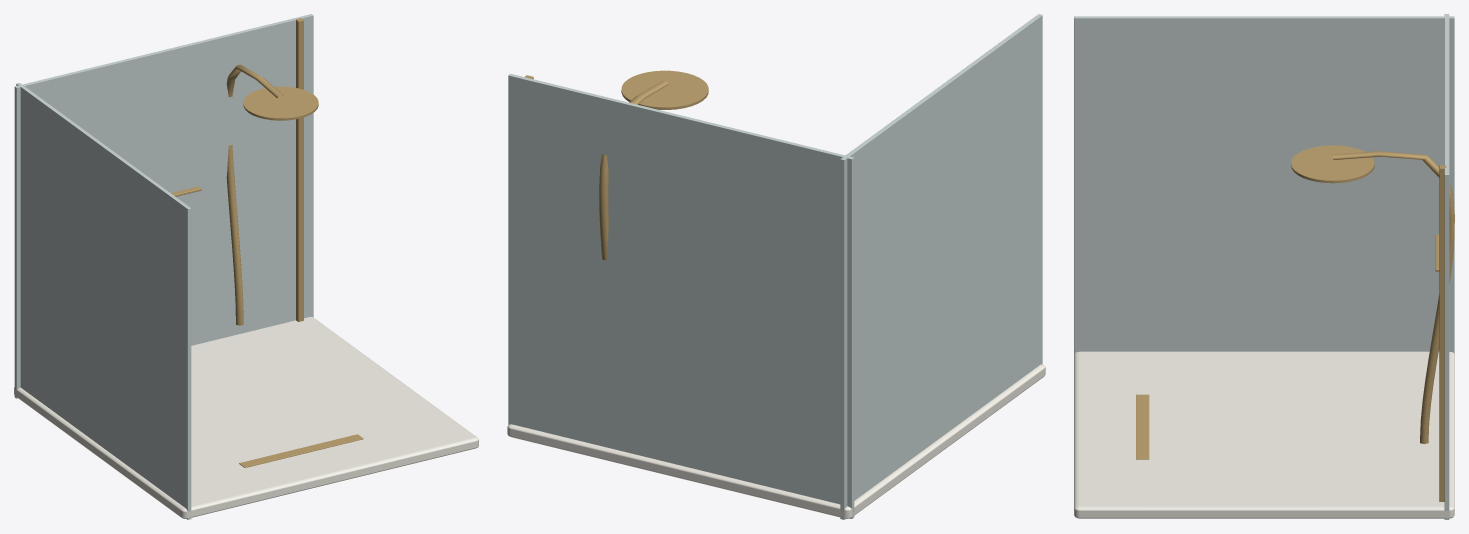
Rendered from shower-11-1.glb.
The picture shows the model from 3 angles, left to right: view 1: azimuth 30°, elevation 25°; view 2: azimuth 150°, elevation 25°; view 3: azimuth 270°, elevation 25°; orthographic projection. The views are drawn at different scales.
Parts seen in each view (by area): view 1: upholstery (×2), part; view 2: upholstery (×2), part; view 3: upholstery (×2), part.
Boxes of the visible parts, left/top/right/bottom form: upholstery (×2): left=14, top=14, right=478, bottom=519; part: left=171, top=18, right=363, bottom=467; upholstery (×2): left=507, top=14, right=1045, bottom=519; part: left=525, top=70, right=708, bottom=260; upholstery (×2): left=1074, top=14, right=1454, bottom=519; part: left=1136, top=145, right=1454, bottom=501.
Bounding box in the file's own units: 1 × 1 × 1.
